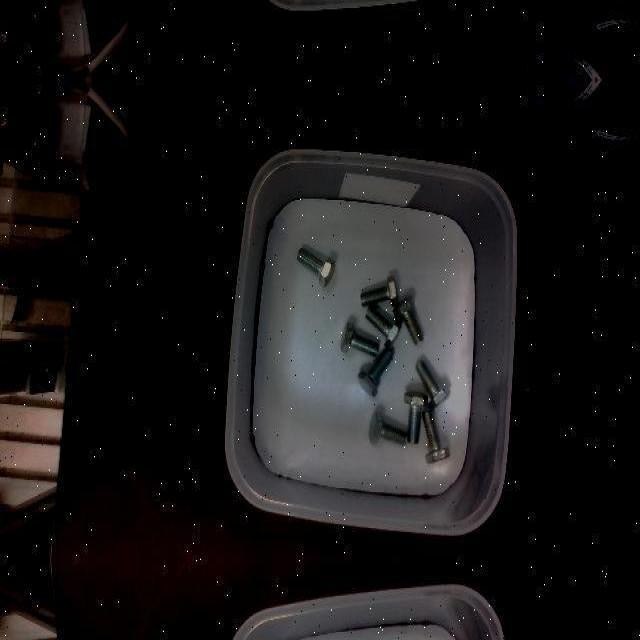screw: (414, 359, 450, 409), (357, 348, 393, 396), (365, 305, 402, 349), (392, 295, 424, 345), (422, 409, 451, 463), (296, 247, 334, 287), (340, 321, 379, 357), (368, 409, 406, 445), (403, 391, 427, 445), (359, 275, 397, 305)
